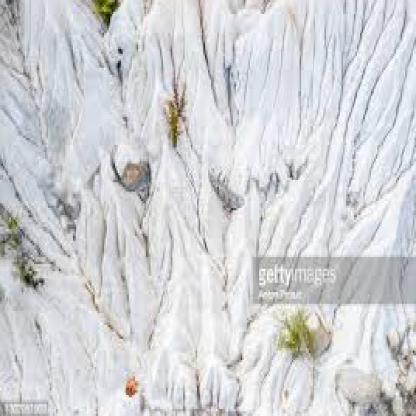Sedimentary_Chalk: (181, 3, 323, 252), (90, 150, 183, 414), (323, 0, 414, 255), (0, 0, 87, 201), (182, 257, 250, 414), (329, 310, 415, 414), (124, 0, 180, 96), (259, 348, 329, 414), (92, 96, 164, 142)
